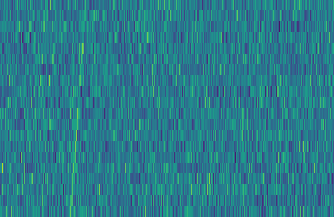signal: (63, 0, 88, 217)
